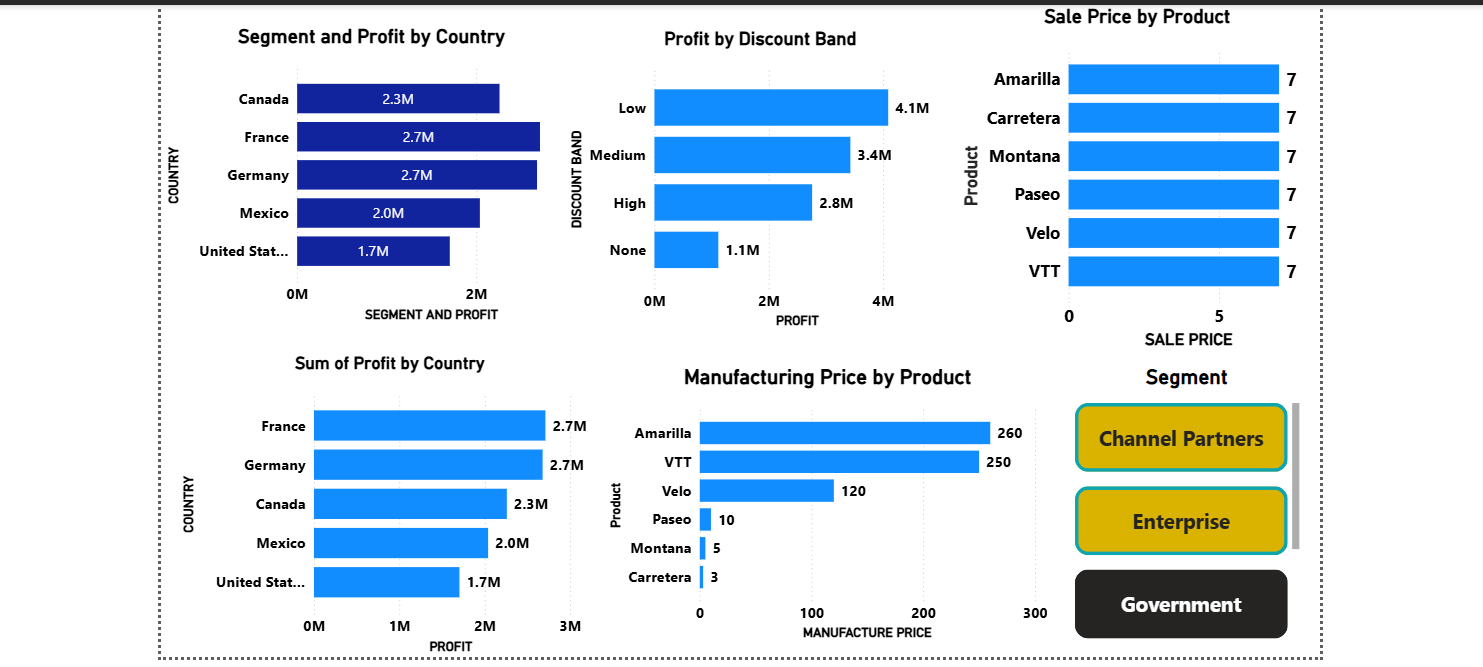

The dashboard page shown, as its layout file describes it:
{"tool":"powerbi","page":{"name":"Page 3","canvas":[1280,720],"ordinal":2},"visuals":[{"type":"barChart","title":" Segment and Profit by Country","fields":{"Category":["Table2.Country"],"Y":["CountNonNull(Table2.Segment)","Sum(Table2.Profit)"]},"box":[0,20.8,464.9,332.6],"z":0},{"type":"barChart","fields":{"Category":["Table2.Country"],"Y":["Sum(Table2.Profit)"]},"box":[17,383.6,472.4,336.4],"z":1000},{"type":"barChart","title":"Profit by Discount Band","fields":{"Category":["Table2.Discount Band"],"Y":["Sum(Table2.Profit)"]},"box":[446,24.6,432.8,336.4],"z":2000},{"type":"barChart","title":"Manufacturing Price by Product","fields":{"Category":["Table2.Product"],"Y":["Min(Table2.Manufacturing Price)"]},"box":[488.7,397.6,495.1,308],"z":3000},{"type":"barChart","title":"Sale Price by Product","fields":{"Category":["Table2.Product"],"Y":["Min(Table2.Sale Price)"]},"box":[878.7,0,400.6,383.6],"z":4000},{"type":"advancedSlicerVisual","fields":{"Values":["Table2.Segment"]},"box":[1003.8,397.6,258,308],"z":5000}]}

Visuals, with their boxes on the page's 1280x720 design canvas (x1, y1, x2, y2). These are canvas units, not pixel positions in the 1483x667 screenshot, which may show the page scaled, cropped or inside an application window:
" Segment and Profit by Country" barChart: box(0, 21, 465, 353)
barChart - Table2.Country x Sum(Table2.Profit): box(17, 384, 489, 720)
"Profit by Discount Band" barChart: box(446, 25, 879, 361)
"Manufacturing Price by Product" barChart: box(489, 398, 984, 706)
"Sale Price by Product" barChart: box(879, 0, 1279, 384)
advancedSlicerVisual - Table2.Segment: box(1004, 398, 1262, 706)
